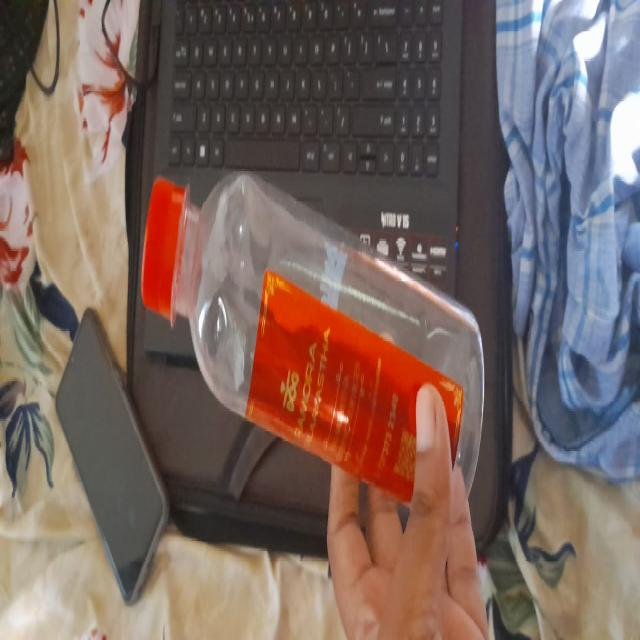Plastic - Recyclable: (140, 168, 486, 511)
